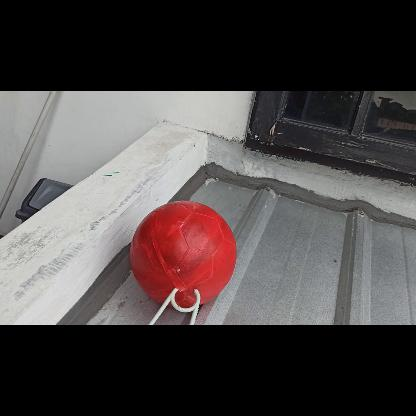red_ball: (131, 200, 237, 306)
